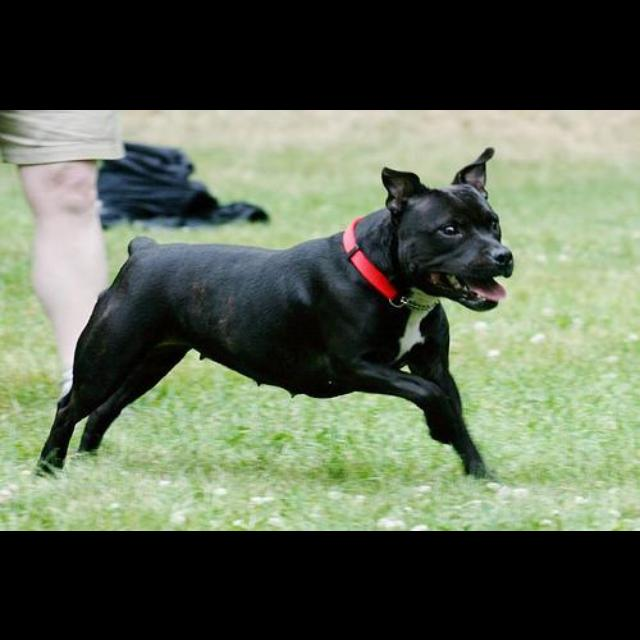staffford: (35, 146, 516, 482)
